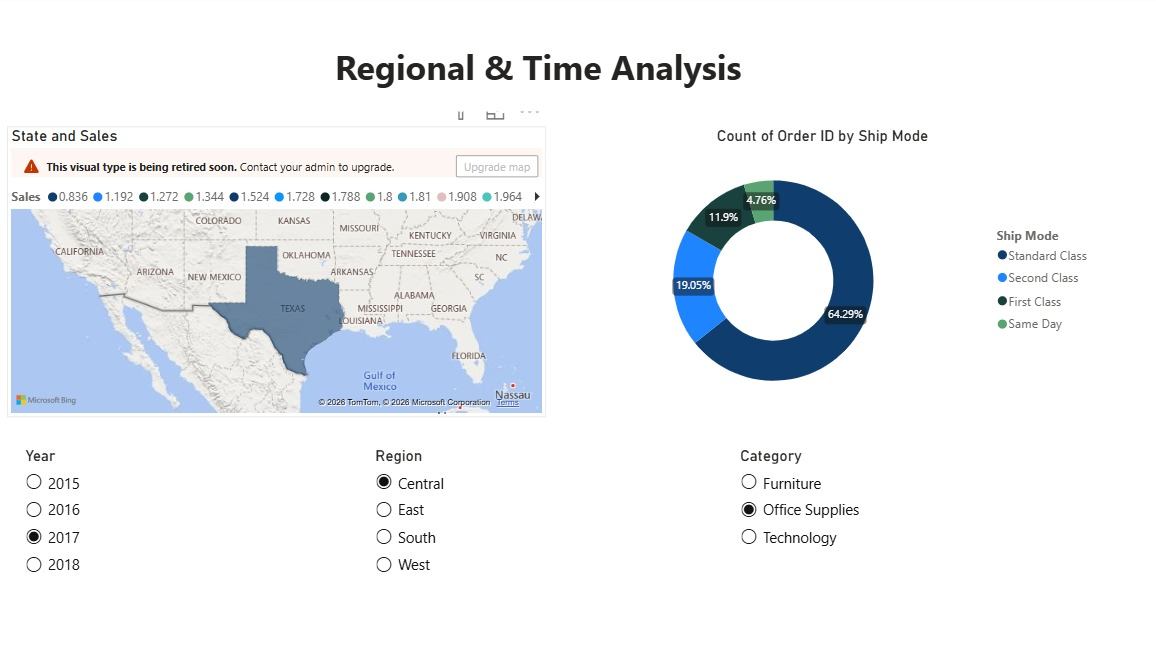

The page's visual inventory and layout, read from the dashboard file:
{"tool":"powerbi","page":{"name":"Regional & Time Analysis","canvas":[1280,720],"ordinal":2},"visuals":[{"type":"filledMap","fields":{"Category":["Dim_Regions.State"],"Series":["orders.Sales"]},"box":[16,144,592,320],"z":0},{"type":"donutChart","fields":{"Category":["orders.Ship Mode"],"Y":["Count(orders.Order ID)"]},"box":[608,144,608,320],"z":1000},{"type":"listSlicer","fields":{"Values":["orders.Order Date.Variation.Date Hierarchy.Year"]},"box":[32,496,384,208],"z":2000},{"type":"listSlicer","fields":{"Values":["Dim_Regions.Region"]},"box":[416,496,400,224],"z":3000},{"type":"listSlicer","fields":{"Values":["Dim_Products.Category"]},"box":[816,496,400,224],"z":4000},{"type":"textbox","box":[224,48,752,80],"z":5000}]}

Visuals, with their boxes in screenshot pixels (x1, y1, x2, y2), scaled from the page's 1280x720 canvas onto the 1156x647 screenshot:
filledMap - Dim_Regions.State x orders.Sales: x1=14, y1=129, x2=549, y2=417
donutChart - orders.Ship Mode x Count(orders.Order ID): x1=549, y1=129, x2=1098, y2=417
listSlicer - orders.Order Date.Variation.Date Hierarchy.Year: x1=29, y1=446, x2=376, y2=633
listSlicer - Dim_Regions.Region: x1=376, y1=446, x2=737, y2=646
listSlicer - Dim_Products.Category: x1=737, y1=446, x2=1098, y2=646
textbox: x1=202, y1=43, x2=881, y2=115
